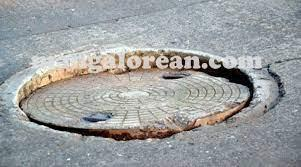closed manhole-not overflowing-: (8, 49, 269, 139)
